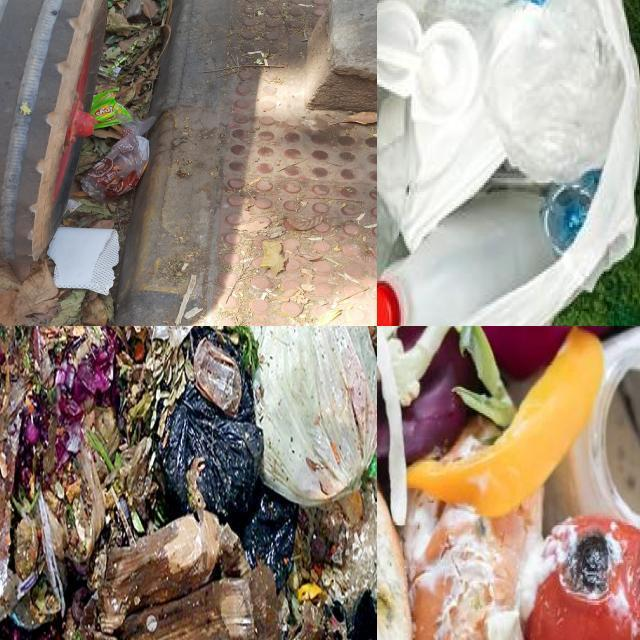Disposable: (193, 338, 242, 416)
Garbage: (0, 326, 377, 640), (377, 0, 640, 326), (377, 326, 640, 640), (0, 0, 171, 326)
Plastic: (486, 0, 625, 182), (377, 189, 556, 326), (377, 0, 479, 122), (377, 88, 421, 281), (541, 170, 601, 255)
Plastic_Bag: (250, 326, 376, 504), (160, 375, 263, 521), (82, 115, 156, 205), (242, 490, 297, 590), (124, 0, 144, 21)
Plastic_bottle: (544, 326, 640, 533)
Plastic_wraper: (92, 88, 134, 129)
contaminated_waste: (377, 193, 564, 326)
